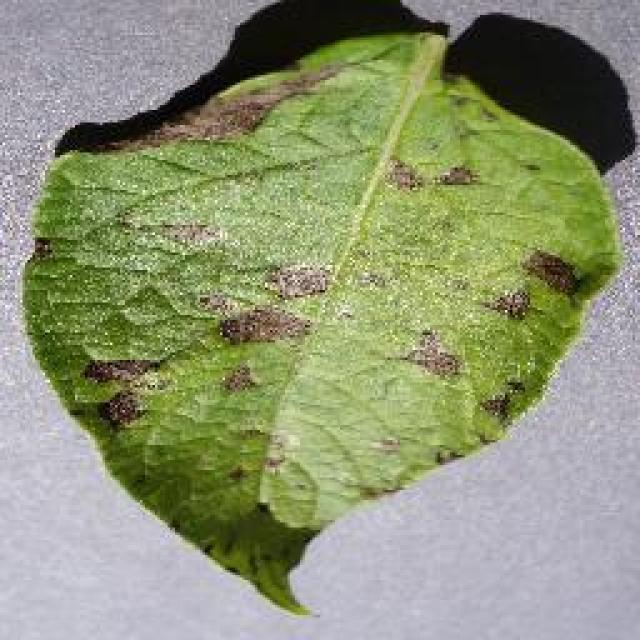Potato___Early_blight: (13, 28, 622, 624)
